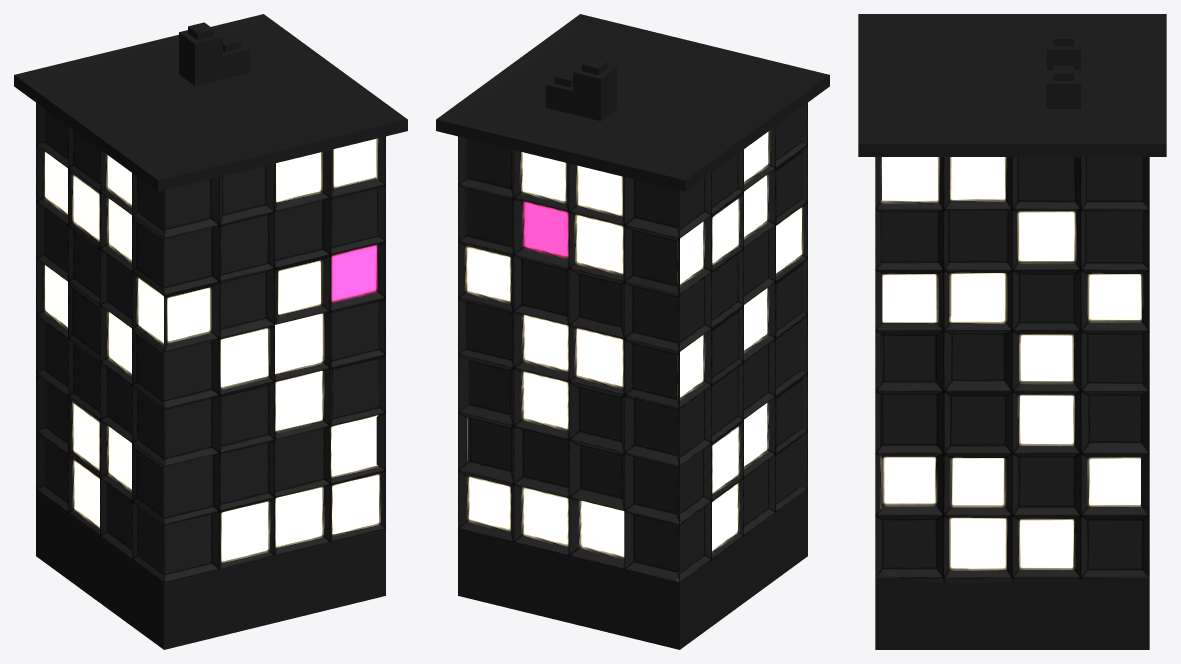
File: joelTalo.fbx
3 views of the same model, side by side, from view 1: azimuth 30°, elevation 25°; view 2: azimuth 150°, elevation 25°; view 3: azimuth 270°, elevation 25° (orthographic). The views are drawn at different scales.
Parts seen in each view (by area): view 1: Cube; view 2: Cube; view 3: Cube.
Part boxes in pixels (x1,y1,x2,y2): Cube: [14, 14, 407, 649]; Cube: [436, 14, 829, 649]; Cube: [858, 14, 1166, 649].
Size of the model in its own units: 225 by 455 by 225.
